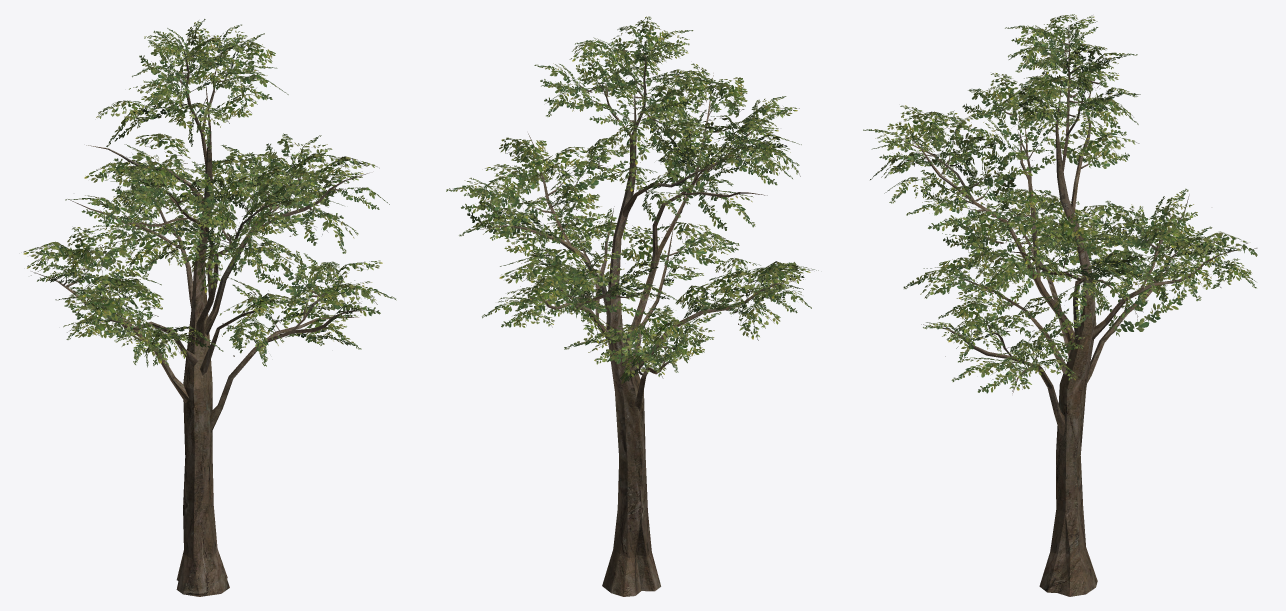
File: bg_anh_tree_autumntree02_sm_phs.FBX
3 renders of one model, left to right at view 1: azimuth 30°, elevation 25°; view 2: azimuth 150°, elevation 25°; view 3: azimuth 270°, elevation 25°, orthographic.
Visible parts, largest first — view 1: bg_anh_tree_autumntree02_sm_phs; view 2: bg_anh_tree_autumntree02_sm_phs; view 3: bg_anh_tree_autumntree02_sm_phs.
Boxes of the visible parts, <box> form: bg_anh_tree_autumntree02_sm_phs: <box>23,19,396,596</box>; bg_anh_tree_autumntree02_sm_phs: <box>446,16,818,596</box>; bg_anh_tree_autumntree02_sm_phs: <box>863,14,1257,596</box>.
Size of the model in its own units: 359 by 559 by 379.
